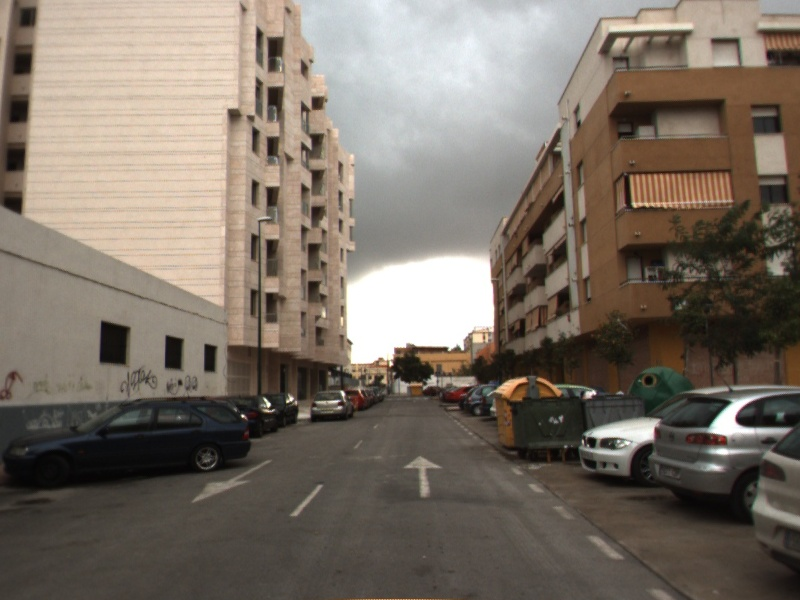STRAIGHT: (400, 452, 447, 499)
